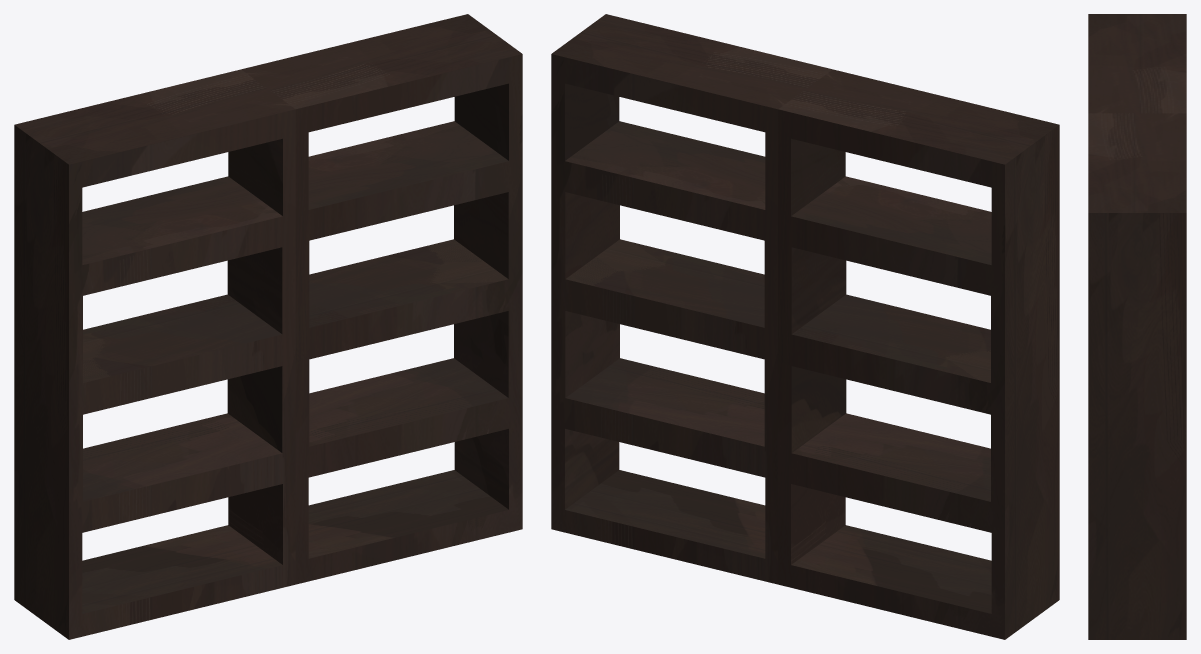
File: M-BigShelves.fbx
3 views of the same model, side by side, from view 1: azimuth 30°, elevation 25°; view 2: azimuth 150°, elevation 25°; view 3: azimuth 270°, elevation 25° (orthographic). The views are drawn at different scales.
Parts seen in each view (by area): view 1: Cube.002, Cube; view 2: Cube.002, Cube; view 3: Cube, Cube.002.
Part boxes in pixels (x1=…): Cube.002: x1=14, y1=69, x2=295, y2=639; Cube: x1=241, y1=14, x2=522, y2=584; Cube.002: x1=778, y1=69, x2=1059, y2=639; Cube: x1=551, y1=14, x2=832, y2=584; Cube: x1=1088, y1=113, x2=1186, y2=639; Cube.002: x1=1088, y1=14, x2=1186, y2=113.
Size of the model in its own units: 120 by 25 by 120.
Materials: 2 (2 with a texture image).
